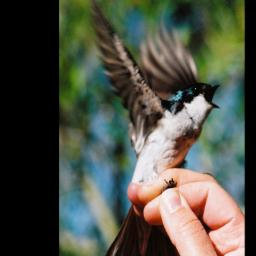Swallow: (80, 0, 223, 256)
